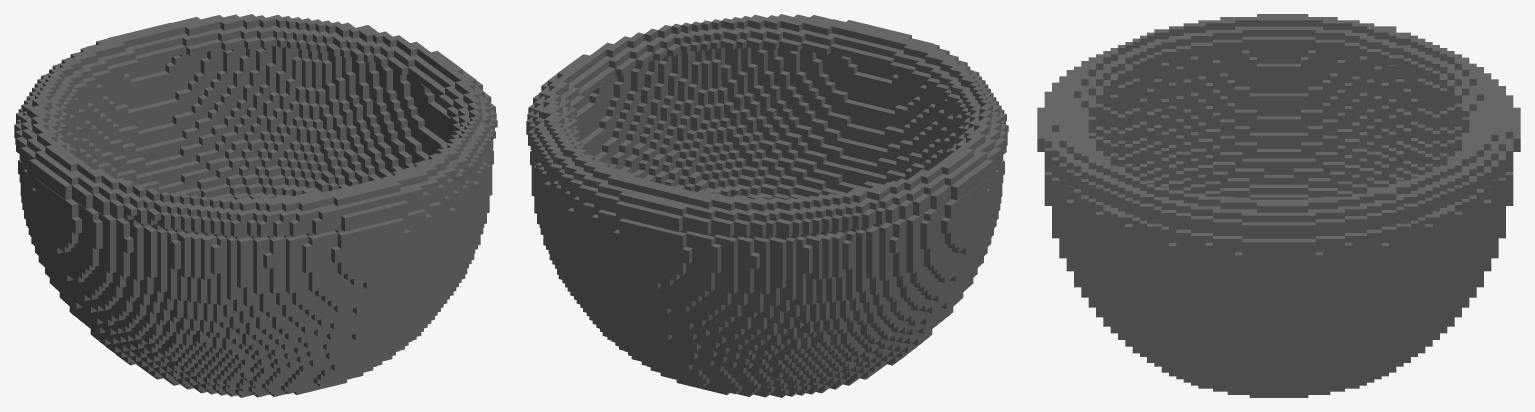
Rendered from bedroom-desk-view-television-1-bowl.obj.
3 renders of one model, left to right at view 1: azimuth 30°, elevation 25°; view 2: azimuth 150°, elevation 25°; view 3: azimuth 270°, elevation 25°, orthographic.
Visible parts, largest first — view 1: bowl; view 2: bowl; view 3: bowl.
Part boxes in pixels (box(x1,y1,x2,y2)): bowl: box(14, 14, 497, 397); bowl: box(526, 14, 1008, 397); bowl: box(1037, 14, 1520, 397).
Size of the model in its own units: 6.6 by 3.5 by 6.6.
Materials: 1 (1 with a texture image).
